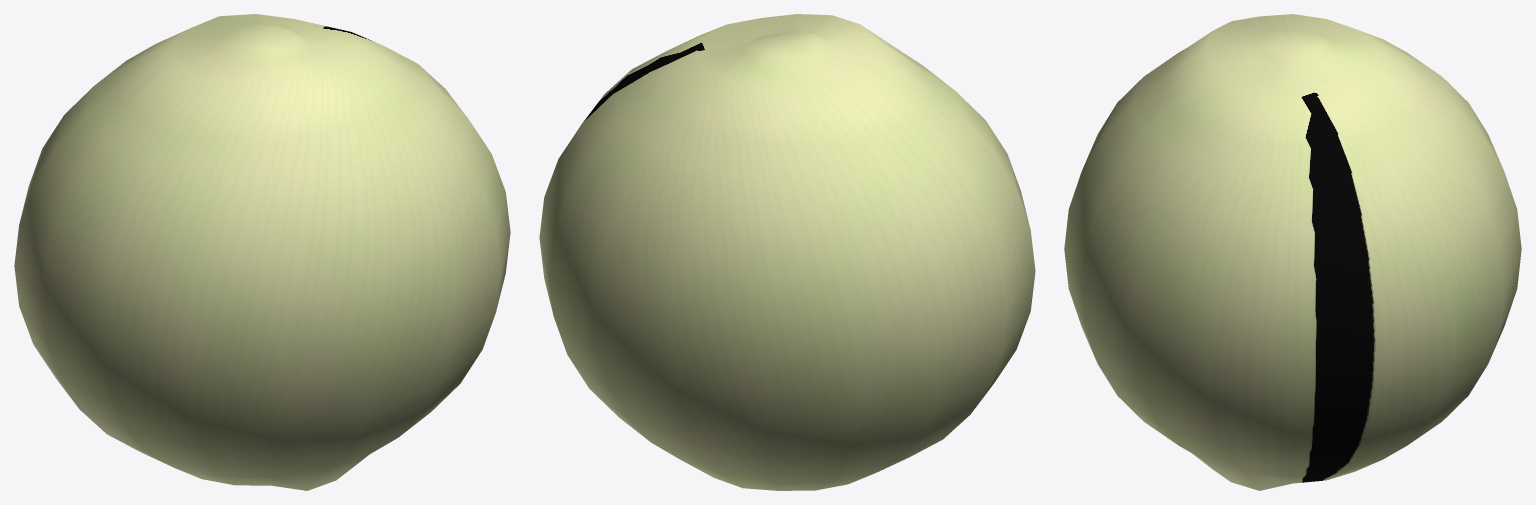
The model's file is WhiteOnion_Peeled1.glb.
3 renders of one model, left to right at view 1: azimuth 30°, elevation 25°; view 2: azimuth 150°, elevation 25°; view 3: azimuth 270°, elevation 25°, orthographic. The views are drawn at different scales.
Parts seen in each view (by area): view 1: Sphere; view 2: Sphere; view 3: Sphere.
Boxes of the visible parts, x1,y1,x2,y2 form: Sphere: (14, 14, 510, 490); Sphere: (539, 14, 1035, 490); Sphere: (1064, 14, 1521, 490).
Size of the model in its own units: 4.22 by 3.88 by 3.89.
1 material, 1 textured.
